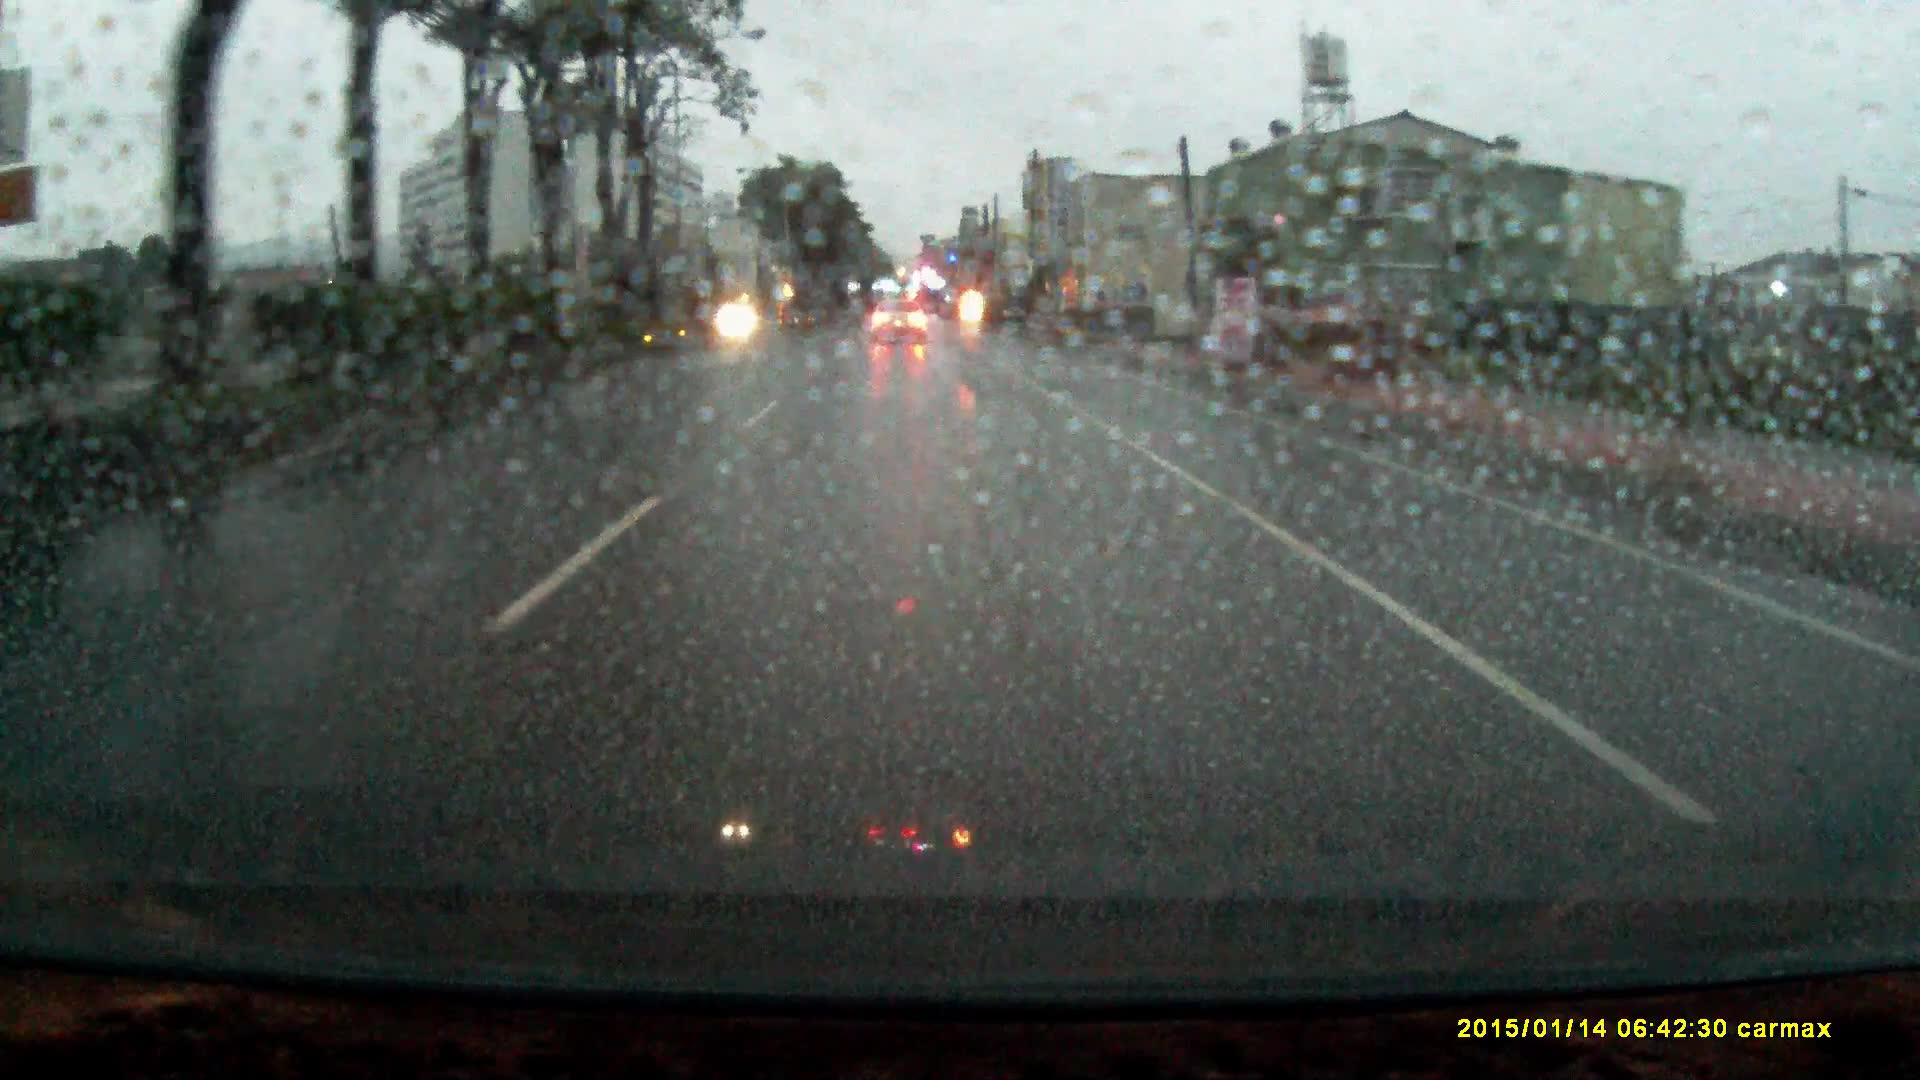vehicle: (872, 298, 928, 342)
